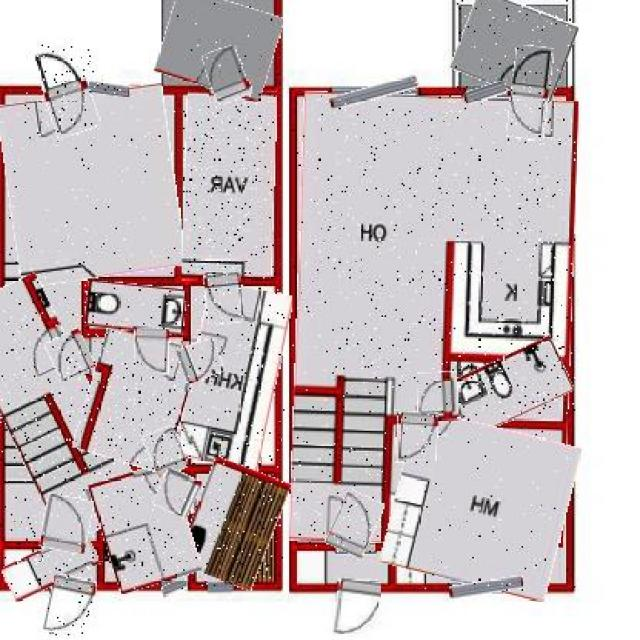door: (37, 41, 94, 137), (510, 45, 552, 140), (331, 492, 380, 557), (46, 575, 96, 637), (41, 496, 90, 552), (334, 578, 378, 638), (206, 48, 249, 103), (397, 412, 437, 463), (49, 331, 92, 378), (205, 272, 243, 325), (156, 471, 198, 517), (418, 372, 458, 420), (146, 428, 185, 475), (178, 340, 220, 382), (136, 328, 170, 375)
window: (329, 82, 418, 103), (449, 578, 523, 597), (464, 83, 508, 102), (88, 83, 129, 95), (162, 581, 188, 597), (208, 580, 232, 594)
zone: (292, 92, 576, 546), (2, 89, 180, 282), (388, 417, 575, 594), (0, 276, 122, 542), (182, 283, 284, 468), (183, 90, 275, 282), (81, 328, 192, 469), (96, 466, 196, 589), (185, 463, 283, 586), (158, 0, 278, 94), (455, 0, 572, 95), (446, 346, 571, 428), (3, 538, 99, 594), (86, 281, 185, 334)
